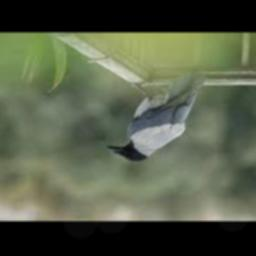Crow: (106, 74, 207, 163)
